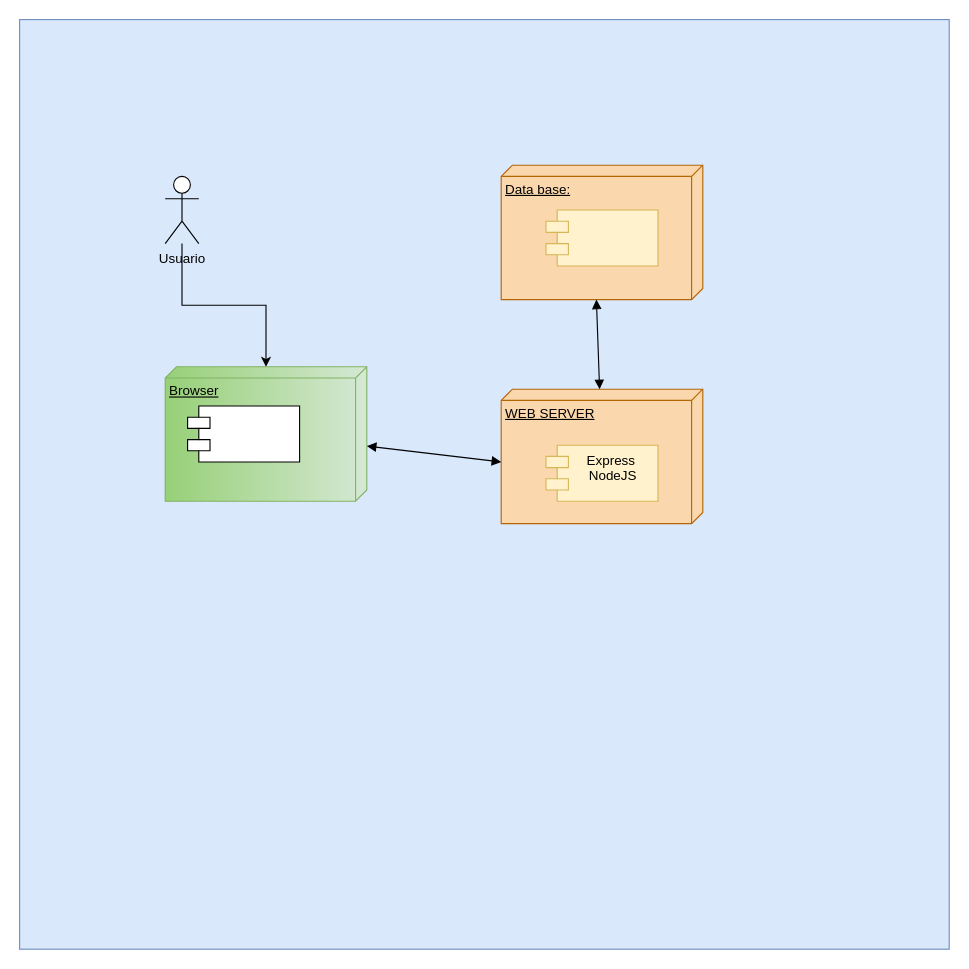
Some shapes in this 969 by 969 pixel diagram are drawn without their labels. Here are the shapes that lost their labels. From the top down, the centre of each, then its label:
At [601,237]: "MONGO DB".
At [243,433]: "React".
